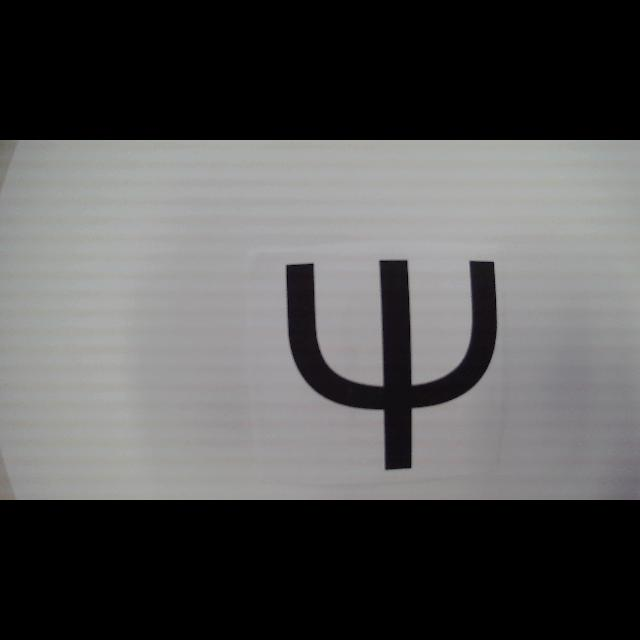PSI: (286, 259, 497, 471)
